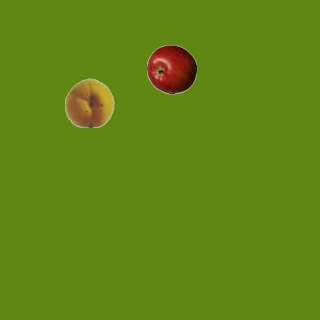Apple Braeburn: (146, 44, 196, 94)
Peach 2: (64, 77, 114, 127)
